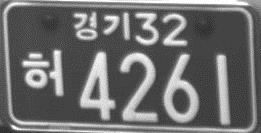1: (211, 52, 235, 126)
2: (120, 52, 159, 124), (160, 12, 188, 49)
3: (131, 9, 159, 47)
4: (77, 49, 117, 124)
6: (161, 51, 203, 126)
경기_O: (71, 11, 131, 42)
허: (20, 47, 65, 99)
